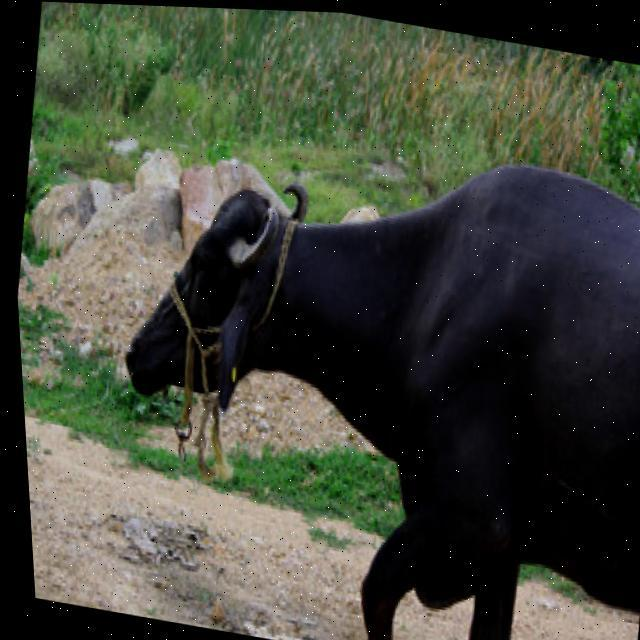Buffalo: (71, 85, 640, 640)
